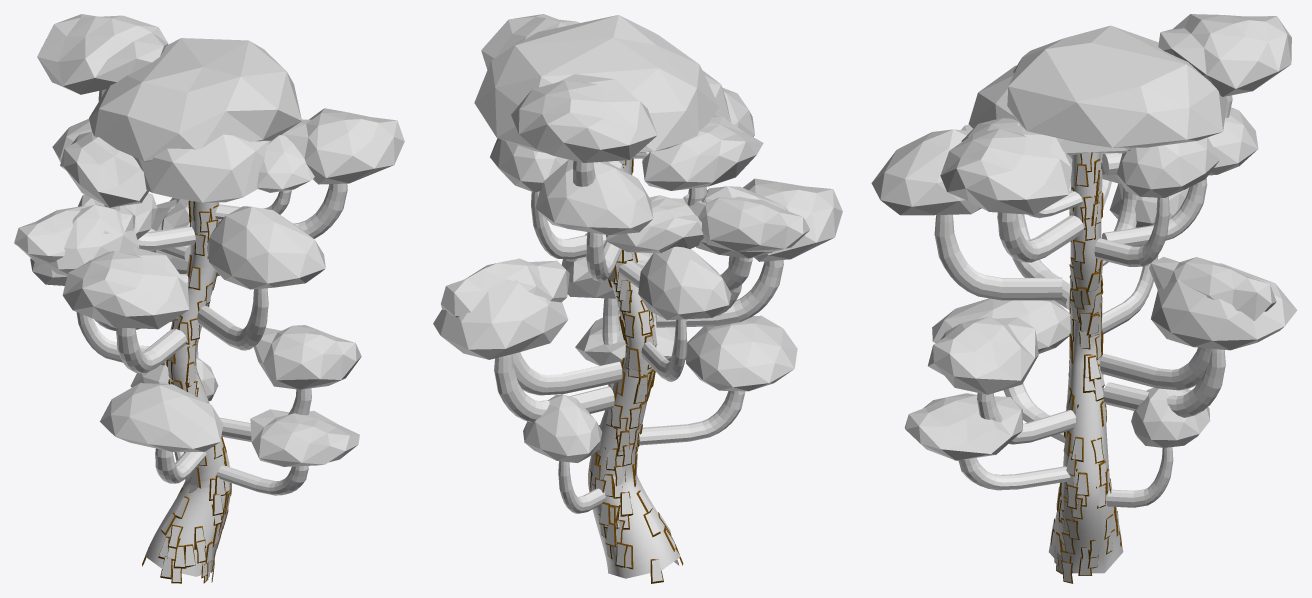
File: Tree08.fbx
The picture shows the model from 3 angles, left to right: view 1: azimuth 30°, elevation 25°; view 2: azimuth 150°, elevation 25°; view 3: azimuth 270°, elevation 25°; orthographic projection. The views are drawn at different scales.
Parts seen in each view (by area): view 1: Tree08; view 2: Tree08; view 3: Tree08.
Boxes of the visible parts, bbox=[...] form: Tree08: bbox=[14, 14, 404, 583]; Tree08: bbox=[433, 14, 842, 583]; Tree08: bbox=[871, 14, 1297, 583].
Bounding box in the file's own units: 670 × 970 × 684.
